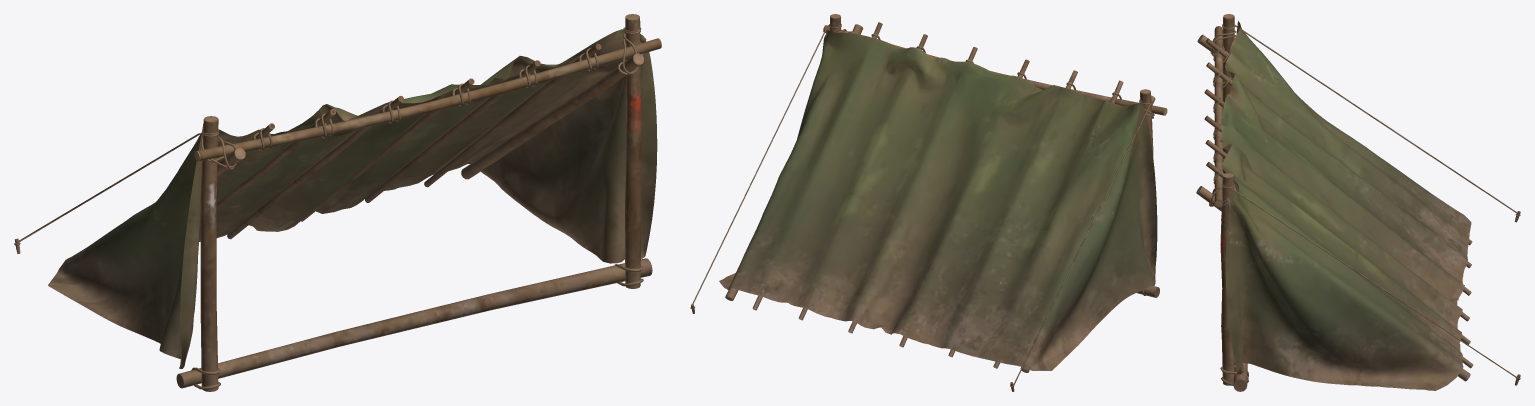
Rendered from foresthut.glb.
The picture shows the model from 3 angles, left to right: view 1: azimuth 30°, elevation 25°; view 2: azimuth 150°, elevation 25°; view 3: azimuth 270°, elevation 25°; orthographic projection. The views are drawn at different scales.
Parts seen in each view (by area): view 1: ForestHut; view 2: ForestHut; view 3: ForestHut.
Boxes of the visible parts, bbox=[...] form: ForestHut: bbox=[14, 14, 661, 391]; ForestHut: bbox=[690, 14, 1167, 391]; ForestHut: bbox=[1196, 14, 1520, 391].
Bounding box in the file's own units: 2.92 × 1.62 × 2.24.
Materials: 1 (1 with a texture image).
